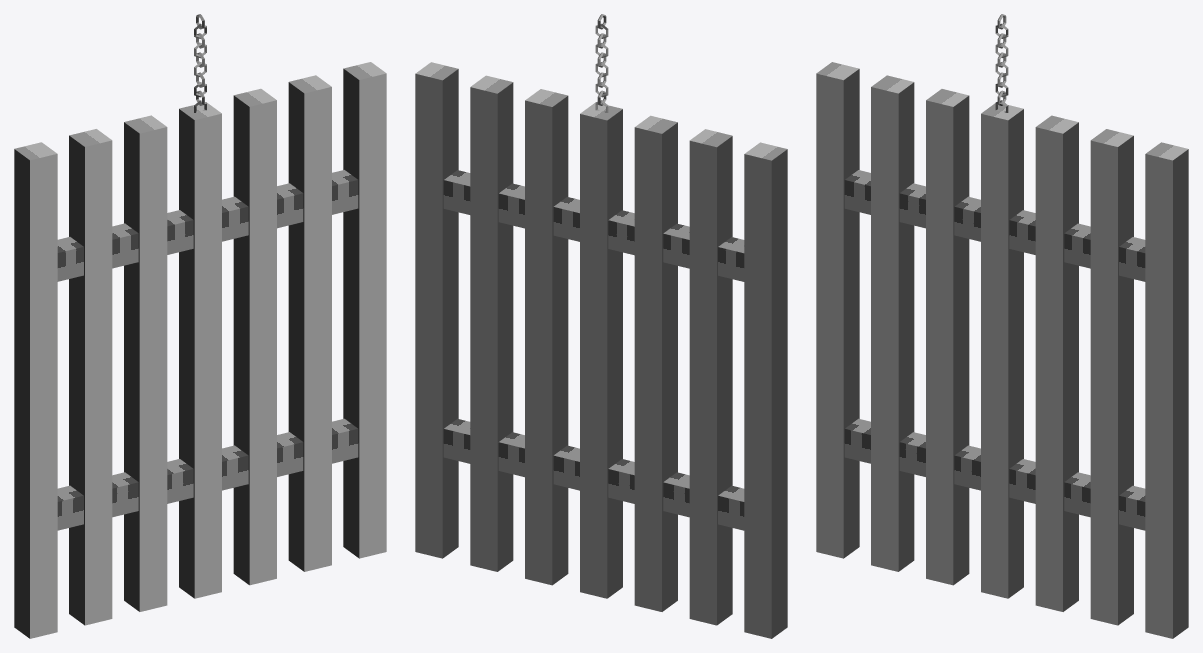
Rendered from portcullis_272x00.gltf.
3 renders of one model, left to right at view 1: azimuth 30°, elevation 25°; view 2: azimuth 150°, elevation 25°; view 3: azimuth 330°, elevation 25°, orthographic.
Parts seen in each view (by area): view 1: portcullis_272x00; view 2: portcullis_272x00; view 3: portcullis_272x00.
Part boxes in pixels (bbox=[...]): portcullis_272x00: bbox=[14, 14, 386, 638]; portcullis_272x00: bbox=[415, 14, 787, 638]; portcullis_272x00: bbox=[816, 14, 1188, 638].
Size of the model in its own units: 3.9 by 6.02 by 0.3.
1 material, 1 textured.
